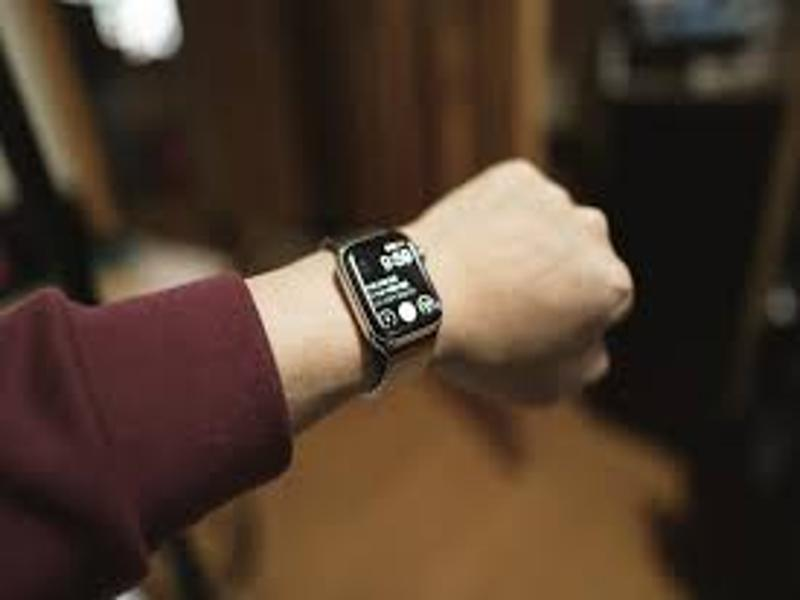watch: (320, 219, 443, 413)
